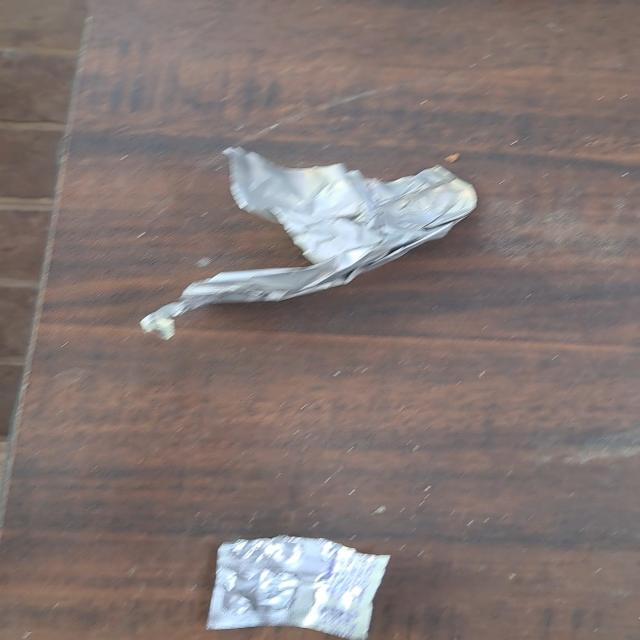Anorganik: (146, 148, 476, 334), (205, 533, 390, 640)
